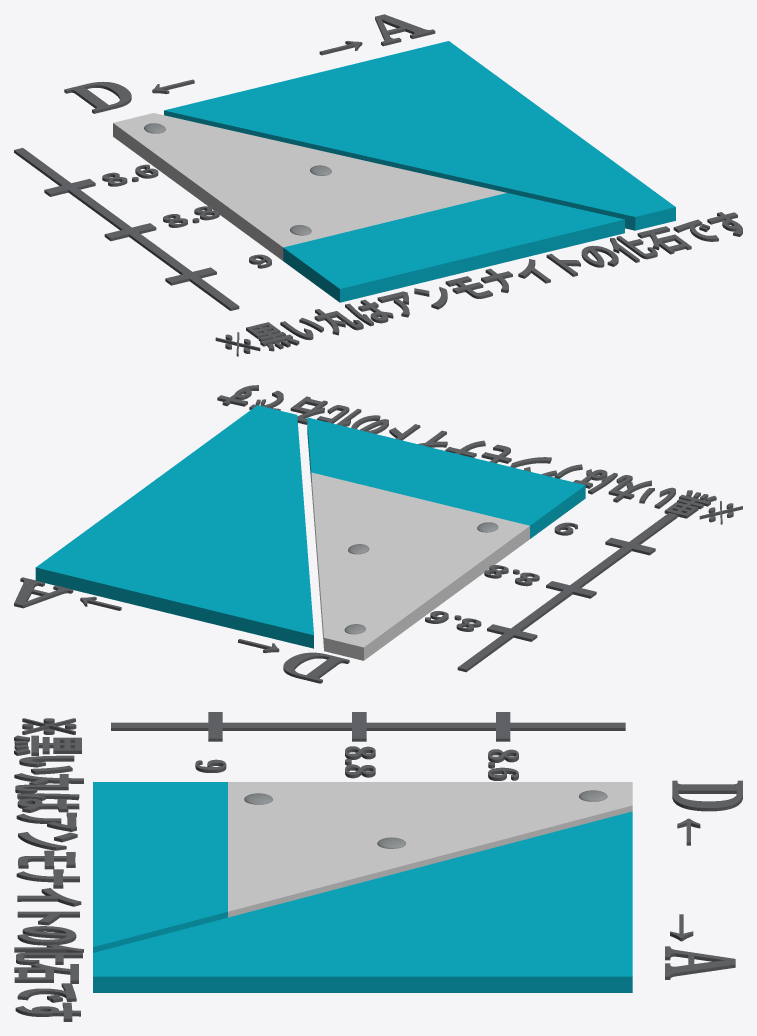
The model's file is watarirouka.glb.
3 views of the same model, one above another, from view 1: azimuth 30°, elevation 25°; view 2: azimuth 150°, elevation 25°; view 3: azimuth 270°, elevation 25° (orthographic). The views are drawn at different scales.
Visible parts, largest first — view 1: Mesh_Mesh_head_geo.001_lambert2SG.001; view 2: Mesh_Mesh_head_geo.001_lambert2SG.001; view 3: Mesh_Mesh_head_geo.001_lambert2SG.001.
Part boxes in pixels (x1,y1,x2,y2): Mesh_Mesh_head_geo.001_lambert2SG.001: (14, 14, 742, 356); Mesh_Mesh_head_geo.001_lambert2SG.001: (14, 385, 742, 683); Mesh_Mesh_head_geo.001_lambert2SG.001: (14, 712, 742, 1021).
Bounding box in the file's own units: 0.1976 × 0.006 × 0.2026.
